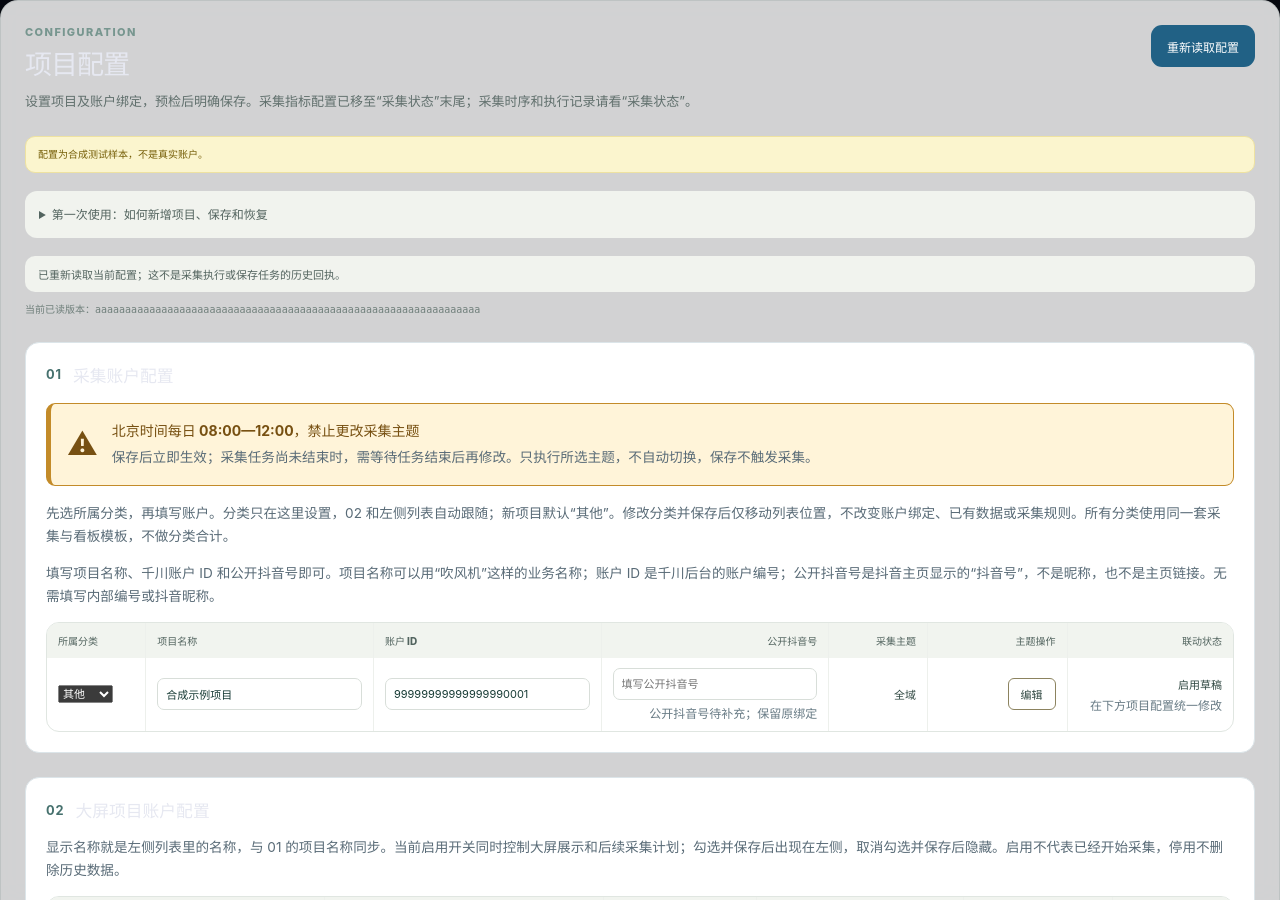
Test: Theme controls in existing project configuration › cancels theme edits without saving
Step 1. Click the button "编辑" → (1032, 694), box [1008,678,1056,710]
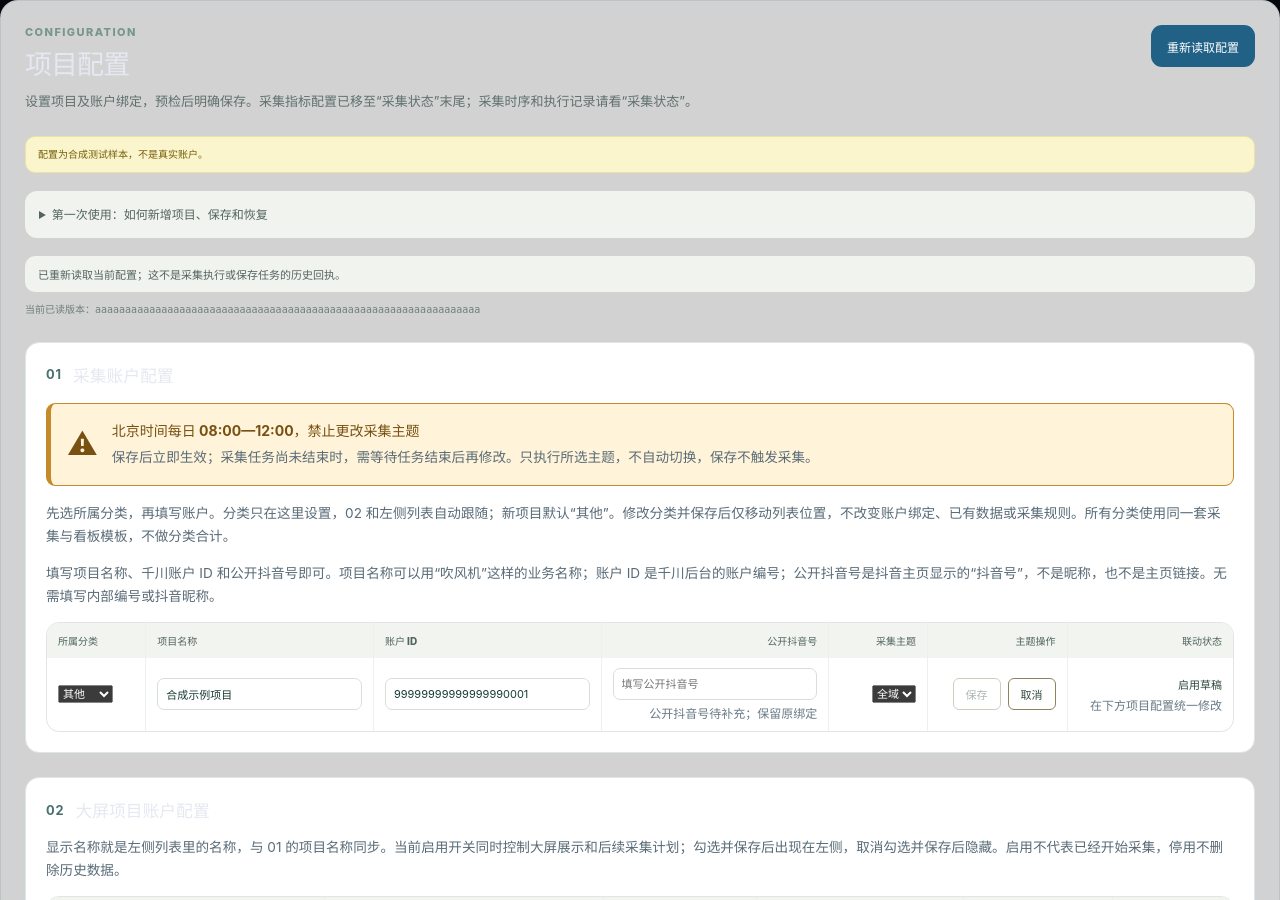
Step 2. Select "乘方" in the dropdown named "项目 1 采集主题" → (894, 694), box [872,685,916,703]
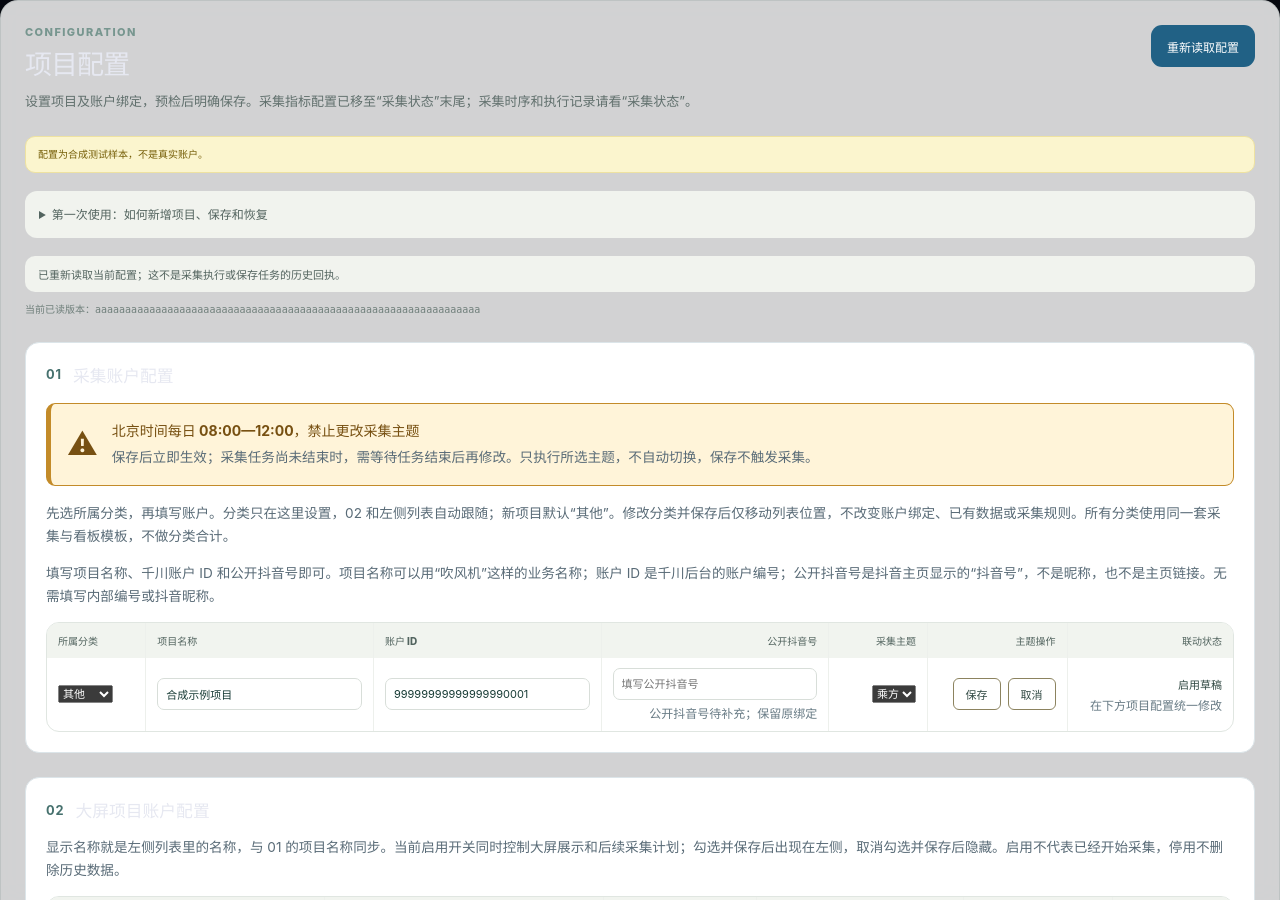
Step 3. Click the button "取消" → (1032, 694), box [1008,678,1056,710]
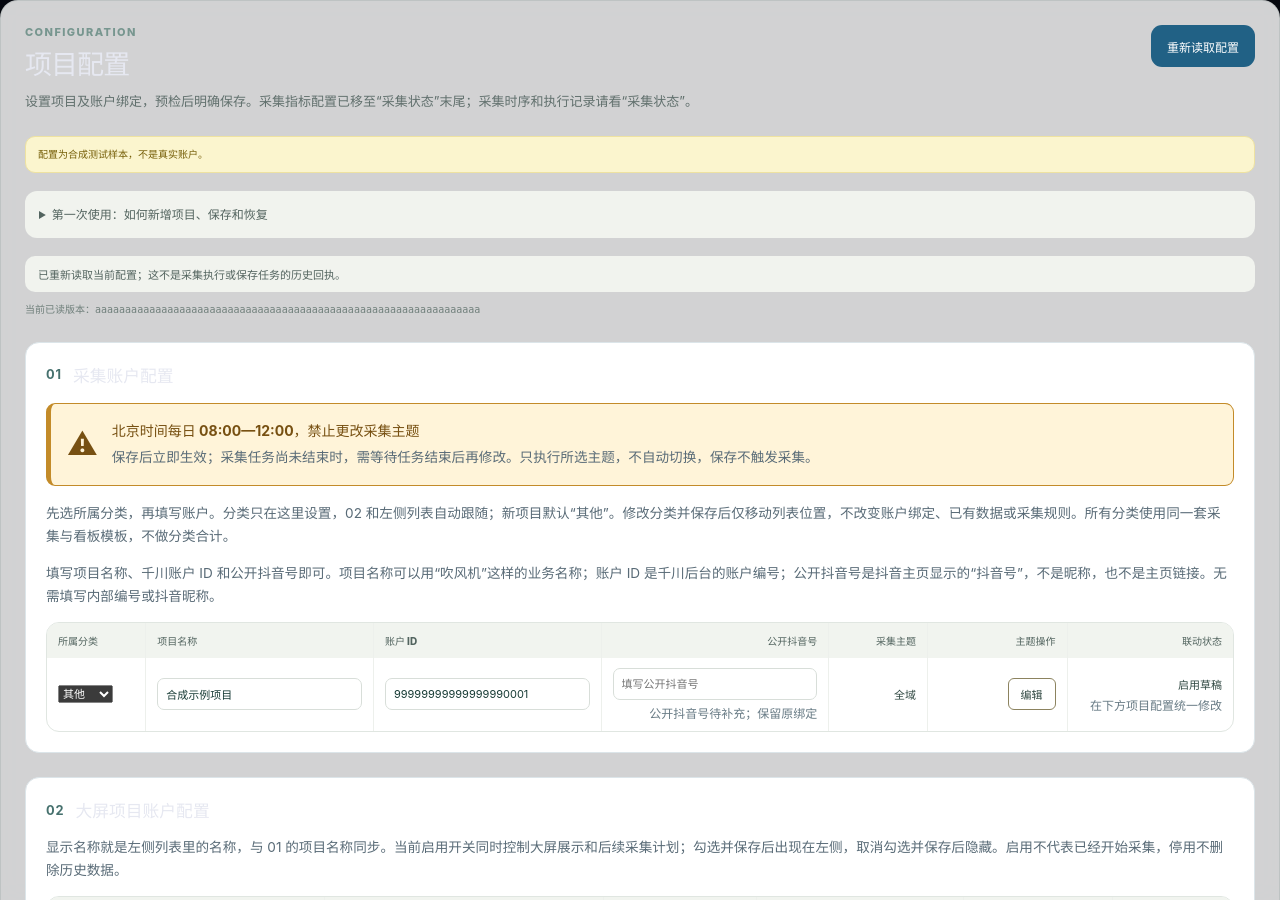
Expected: the text "全域" is shown, [894,688,916,702]
